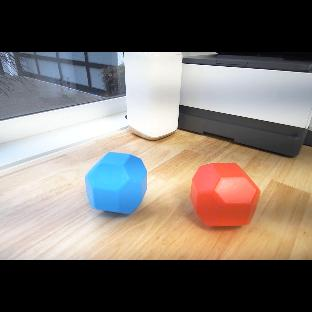V5_BLUE: (86, 150, 148, 216)
V5_RED: (190, 161, 262, 230)
